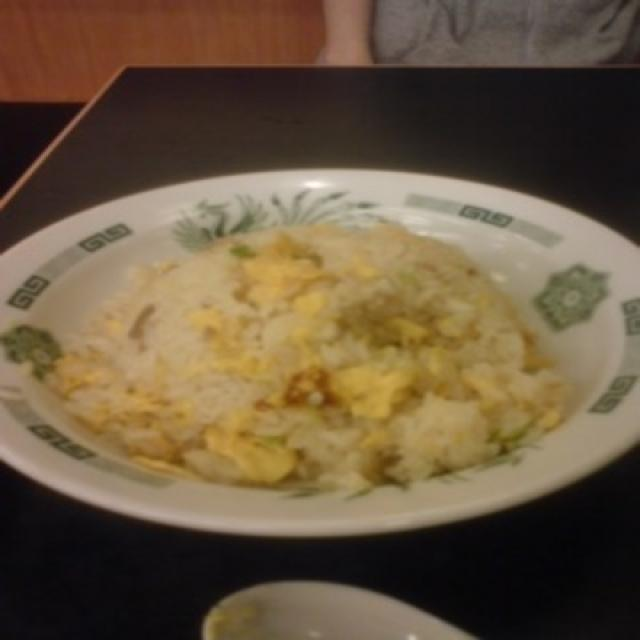米饭主食: (0, 157, 640, 547)
